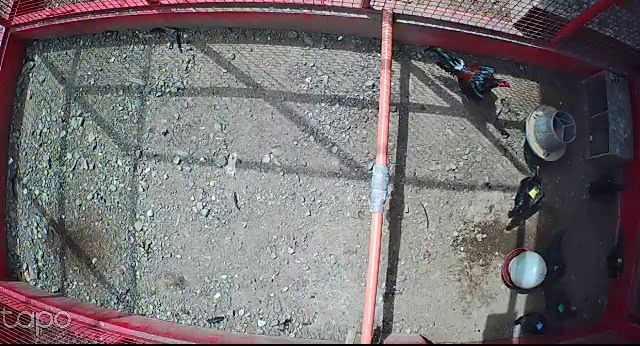Chicken: (507, 166, 546, 218), (512, 307, 567, 341), (540, 230, 569, 287), (536, 286, 579, 323), (602, 235, 631, 284)
Drinker: (499, 248, 549, 290)
Feeder: (523, 105, 578, 161)
Rooster: (423, 45, 513, 101)
Saddle_Color_Blue: (537, 321, 543, 329)
Saddle_Color_Yellow: (527, 186, 540, 200)
